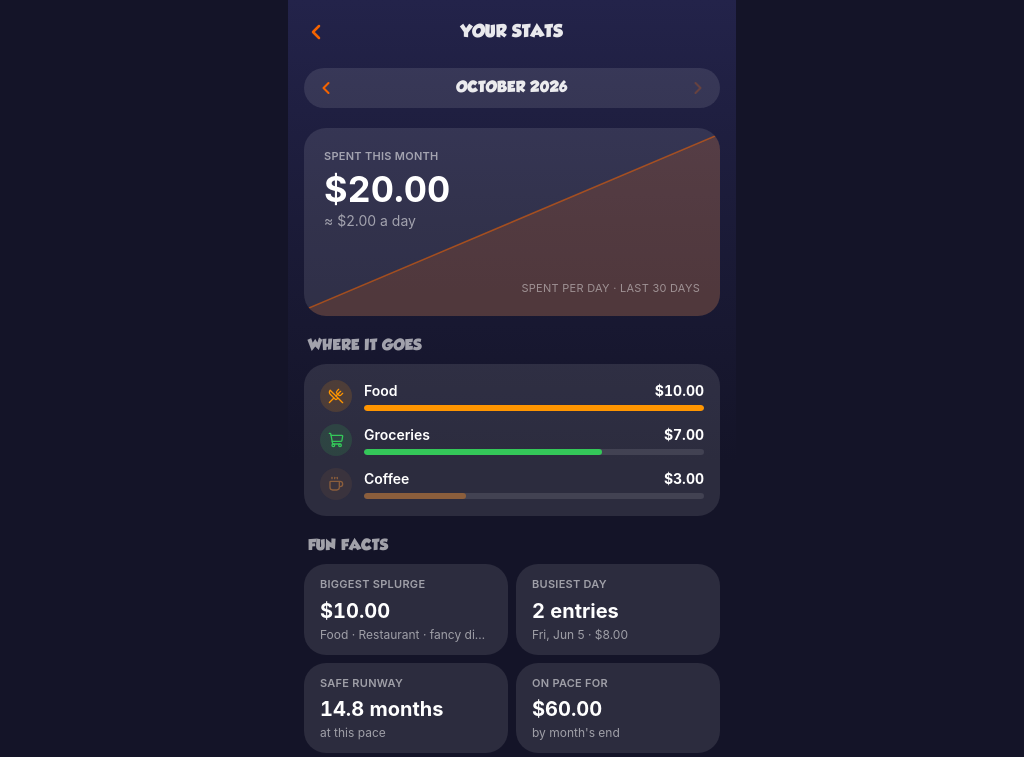
Stats › pages to a past month, dropping the present-tense facts
Expected: the text "Spent this month" is shown, [324,149,438,163]
Expected: the text "$60.00" is shown, [532,697,602,721]
Click the button named "Previous month" at (326, 88), box [308,70,344,106]
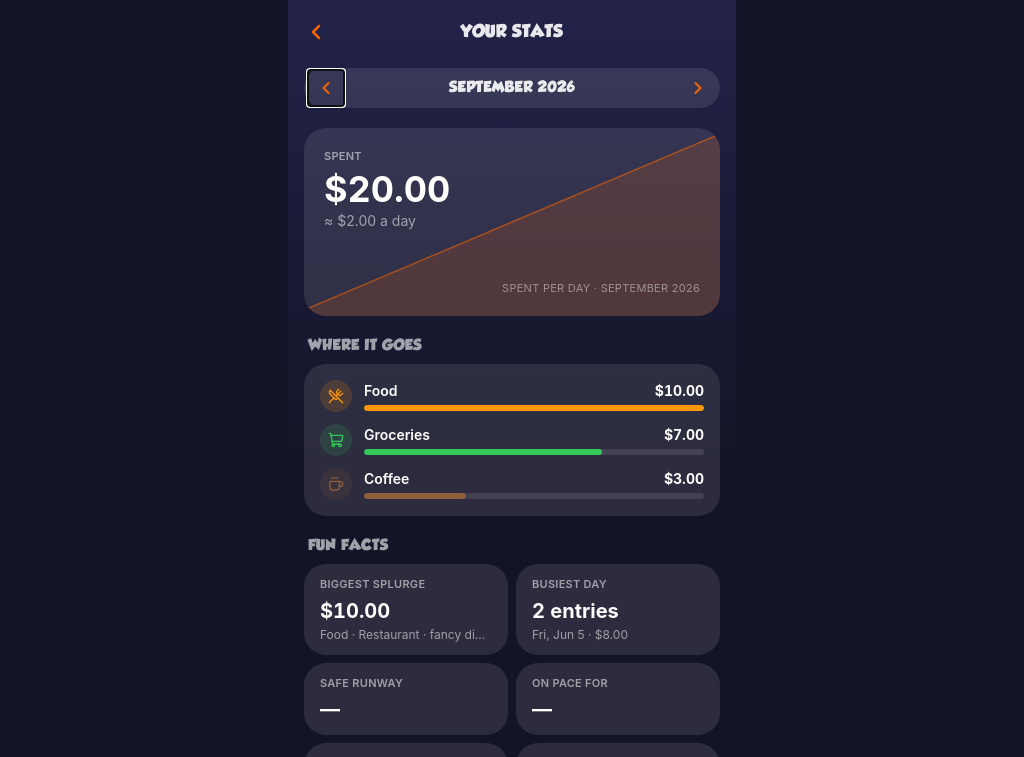
Expected: the text "Spent" is shown, [324,149,362,163]
Expected: the text "Spent this month" is gone
Expected: the text "$60.00" is gone
